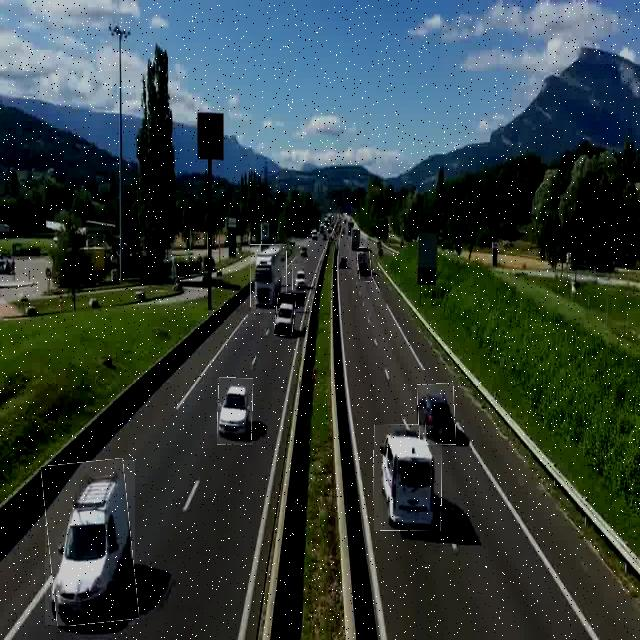Car: (45, 460, 135, 625), (374, 425, 442, 531), (217, 378, 253, 445), (418, 384, 455, 445), (275, 293, 295, 336), (358, 248, 372, 282), (292, 264, 307, 290)
Truck: (251, 244, 287, 313)
